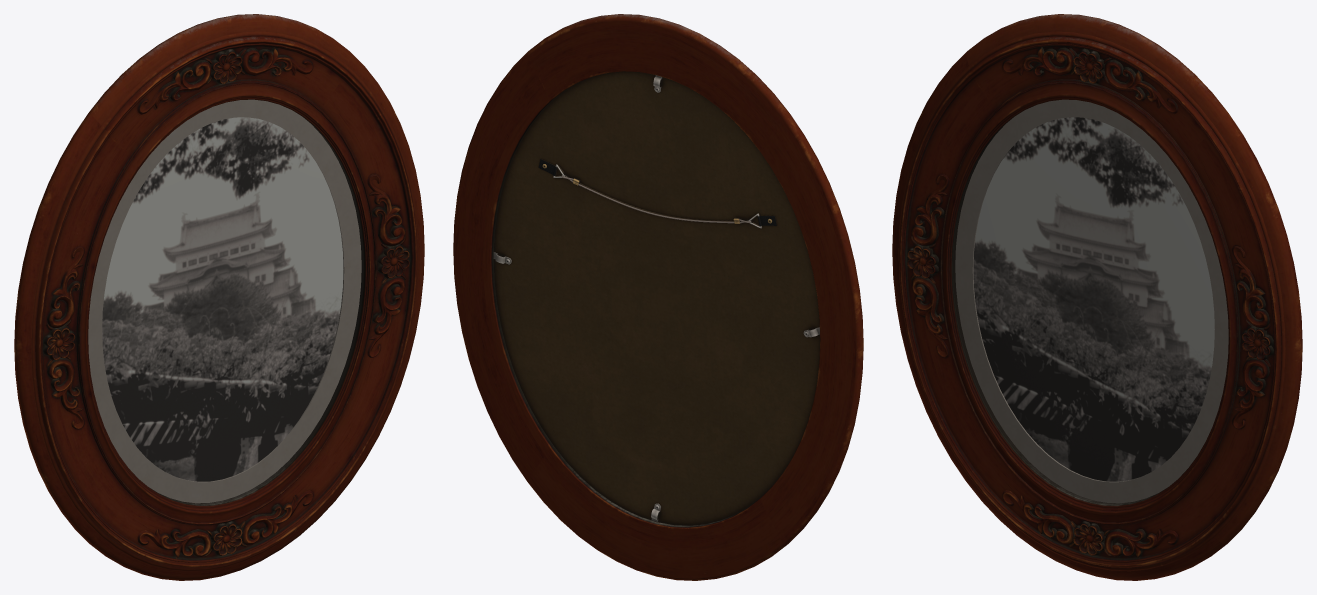
The model's file is hanging_picture_frame_03_4k.gltf.
The picture shows the model from 3 angles, left to right: view 1: azimuth 30°, elevation 25°; view 2: azimuth 150°, elevation 25°; view 3: azimuth 330°, elevation 25°; orthographic projection.
Visible parts, largest first — view 1: hanging_picture_frame_03, hanging_picture_frame_03_glass; view 2: hanging_picture_frame_03; view 3: hanging_picture_frame_03, hanging_picture_frame_03_glass.
Boxes of the visible parts, left/top/right/bottom form: hanging_picture_frame_03: left=14, top=14, right=424, bottom=580; hanging_picture_frame_03_glass: left=88, top=100, right=363, bottom=504; hanging_picture_frame_03: left=453, top=14, right=863, bottom=580; hanging_picture_frame_03: left=892, top=14, right=1302, bottom=580; hanging_picture_frame_03_glass: left=953, top=100, right=1228, bottom=504.
Bounding box in the file's own units: 0.385 × 0.5024 × 0.0318.
3 materials, 2 textured.
